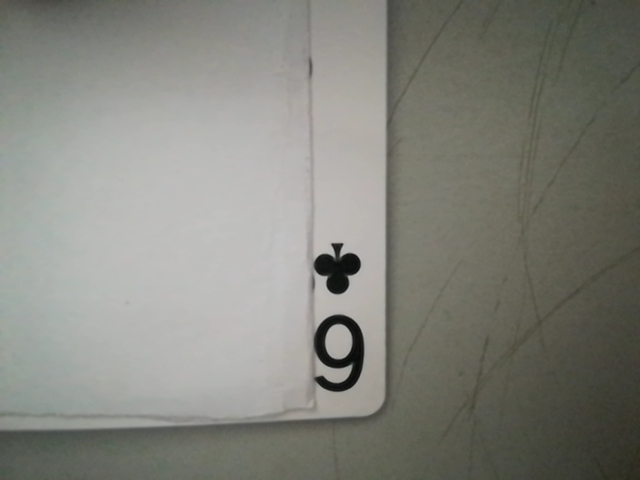mh 6: (299, 237, 378, 406)
